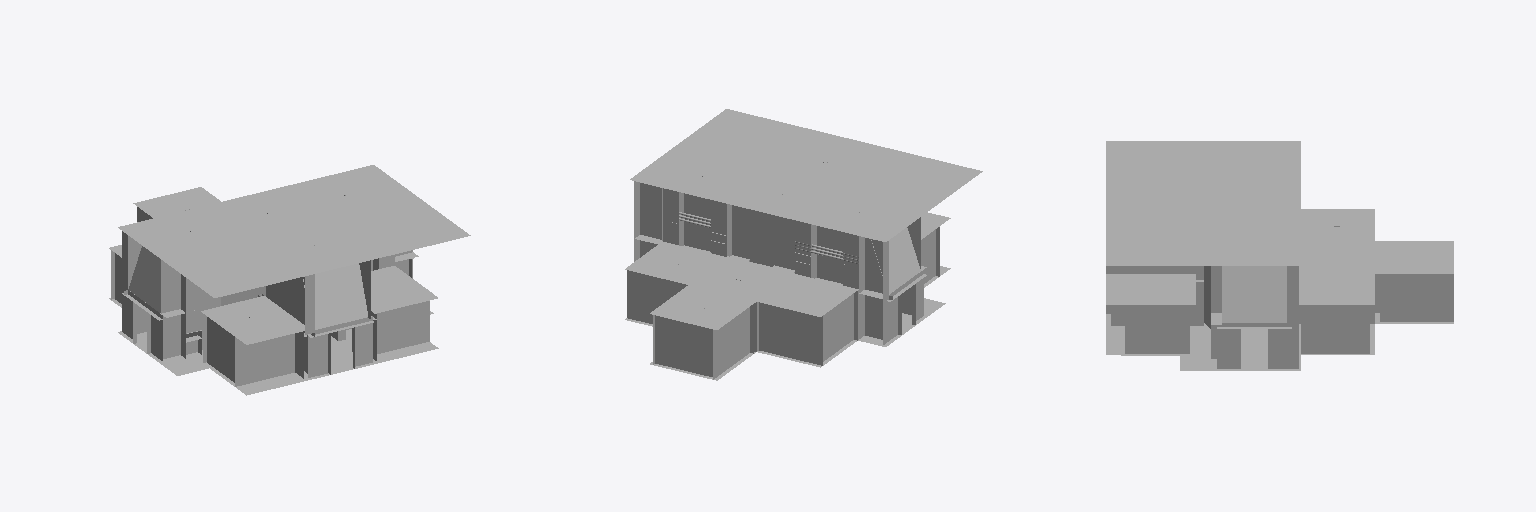
Rendered from LC_cont3_scps.obj.
The picture shows the model from 3 angles: view 1: azimuth 30°, elevation 25°; view 2: azimuth 150°, elevation 25°; view 3: azimuth 270°, elevation 25°; orthographic projection.
Parts seen in each view (by area): view 1: LC_cont3_scps; view 2: LC_cont3_scps; view 3: LC_cont3_scps.
Boxes of the visible parts, box(x1,y1,x2,y2) form: LC_cont3_scps: box(109, 165, 470, 395); LC_cont3_scps: box(625, 109, 982, 380); LC_cont3_scps: box(1106, 141, 1453, 370).
Bounding box in the file's own units: 20 × 7.82 × 23.44.